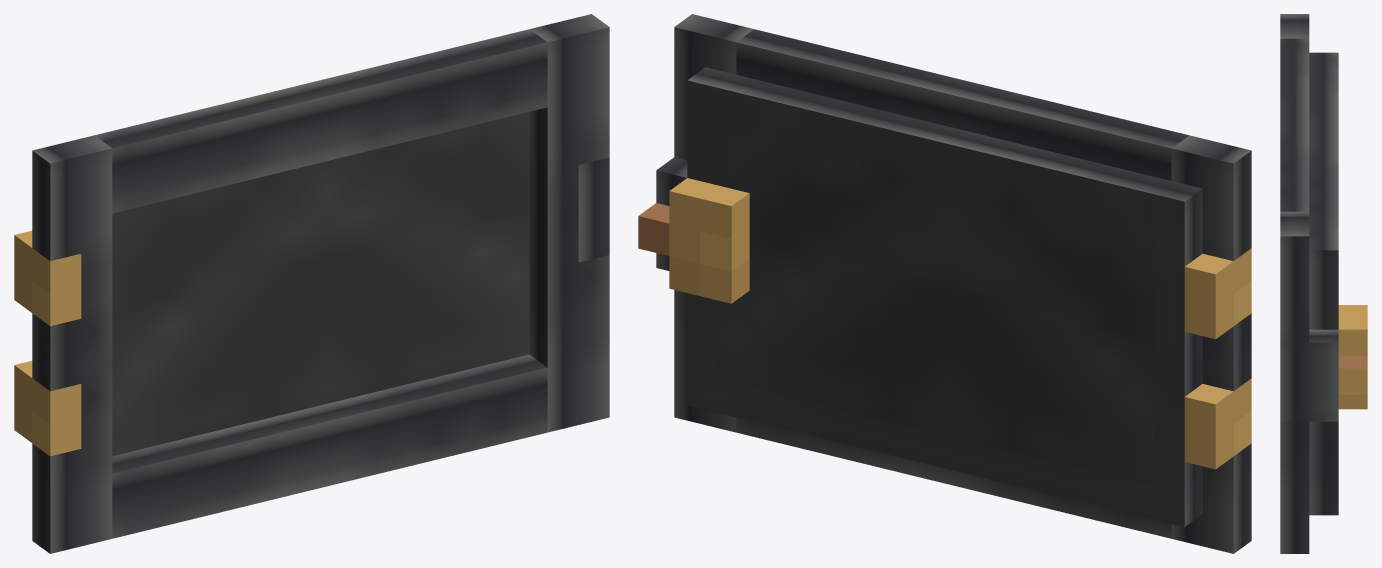
Rendered from modern_tail_hatch.obj.
3 renders of one model, left to right at view 1: azimuth 30°, elevation 25°; view 2: azimuth 150°, elevation 25°; view 3: azimuth 270°, elevation 25°, orthographic. The views are drawn at different scales.
Visible parts, largest first — view 1: group_0_hatch_frame, group_1_closed_hatch_panel, group_3_hatch_hinge; view 2: group_1_closed_hatch_panel, group_0_hatch_frame, group_2_closed_hatch_panel, group_4_hatch_latch, group_3_hatch_hinge; view 3: group_0_hatch_frame, group_2_closed_hatch_panel, group_4_hatch_latch.
Boxes of the visible parts, x1,y1,x2,y2 form: group_0_hatch_frame: (32, 14, 609, 553); group_1_closed_hatch_panel: (112, 112, 529, 455); group_3_hatch_hinge: (14, 230, 81, 456); group_1_closed_hatch_panel: (687, 80, 1184, 526); group_0_hatch_frame: (656, 14, 1251, 553); group_2_closed_hatch_panel: (687, 67, 1202, 526); group_4_hatch_latch: (638, 178, 749, 303); group_3_hatch_hinge: (1184, 248, 1251, 469); group_0_hatch_frame: (1280, 14, 1338, 553); group_2_closed_hatch_panel: (1309, 52, 1338, 515); group_4_hatch_latch: (1338, 305, 1367, 409).
Bounding box in the file's own units: 1.12 × 0.75 × 0.1875.
